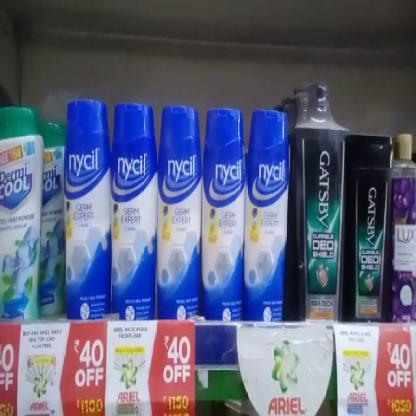Nycil Prickly Heat Powder: (242, 108, 288, 320), (112, 102, 154, 320)
